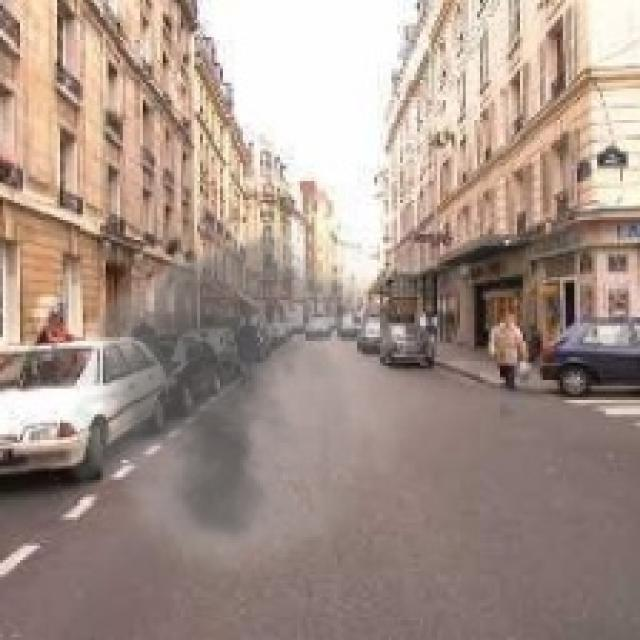Smoke: (48, 206, 440, 574)
